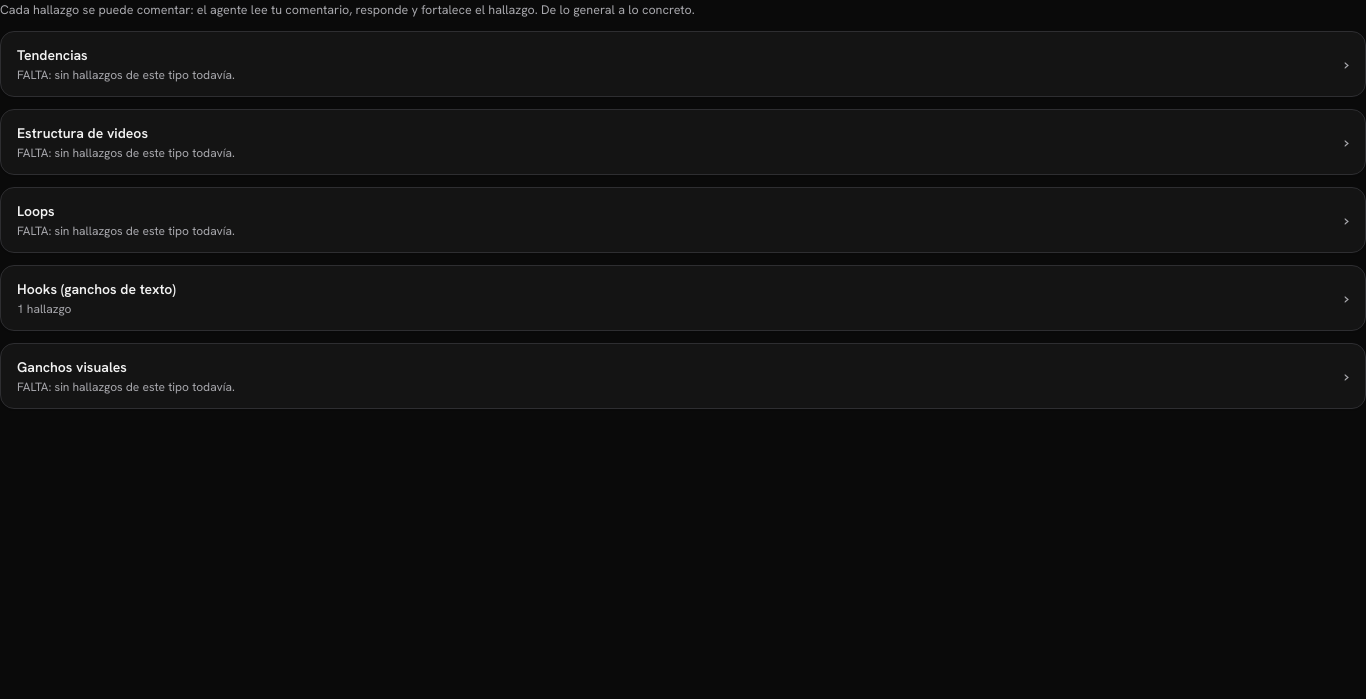
InvestigacionInteractiva › si la relectura tras comentar falla, avisa y no deja la lista vieja como si estuviera al día
This screenshot has width=1366, height=699.
Click the button "Hooks (ganchos de texto) 1 hallazgo ›".
click(96, 289)  # box 1,266 -> 1365,330
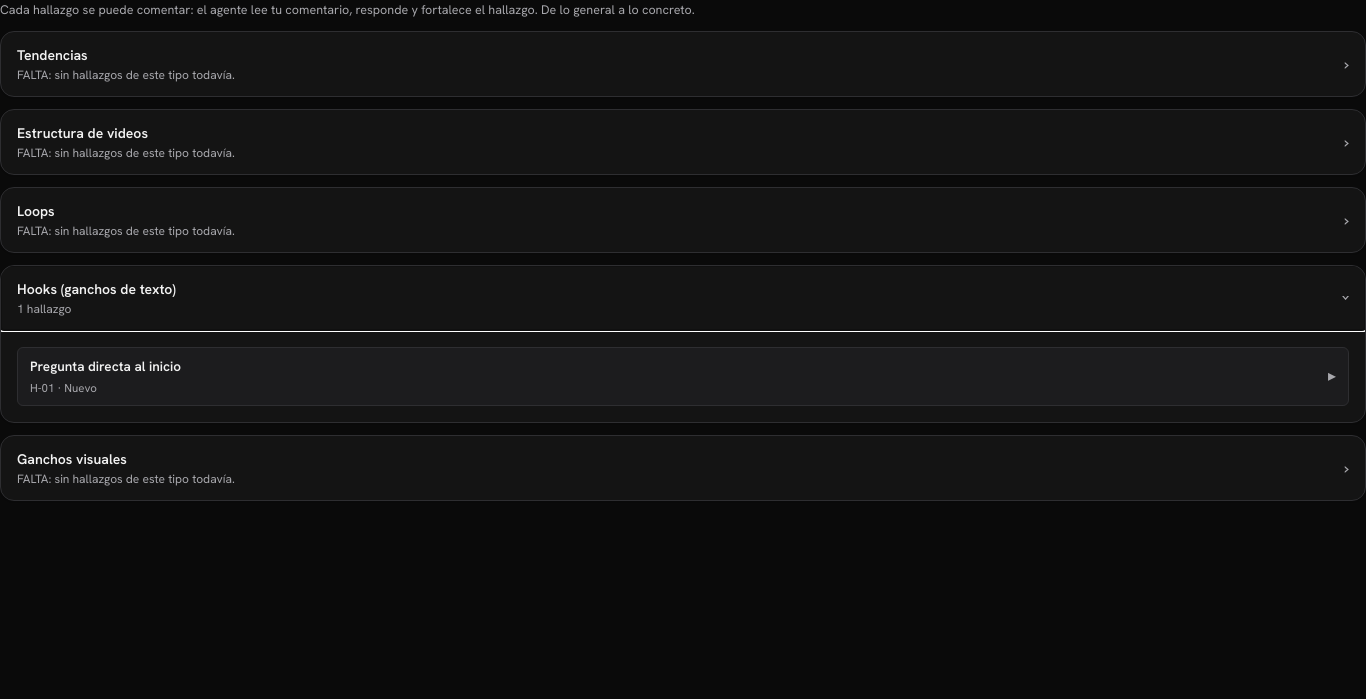
Click the button "Pregunta directa al inicio H-01 · Nuevo ▸".
click(105, 366)  # box 18,348 -> 1348,405
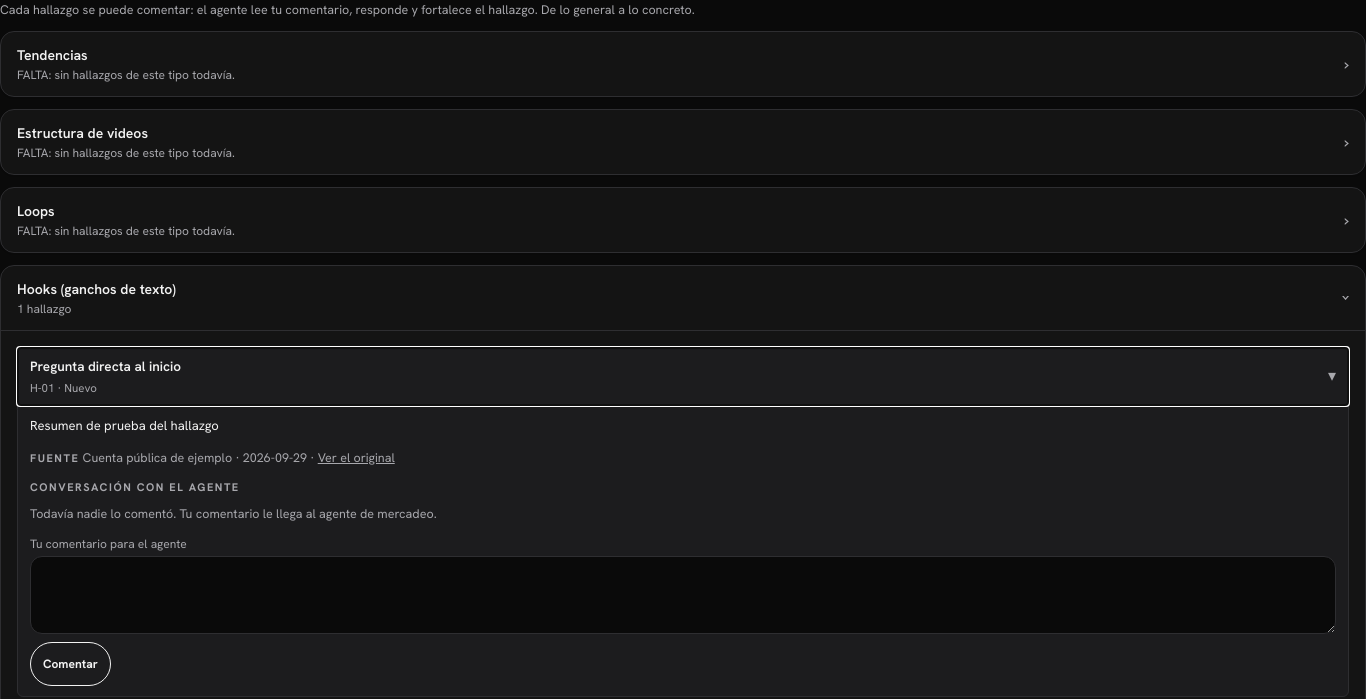
Type "Mi idea" into the text box labelled "Tu comentario para el agente".
click(683, 595); type("Mi idea")  # box 30,556 -> 1336,634
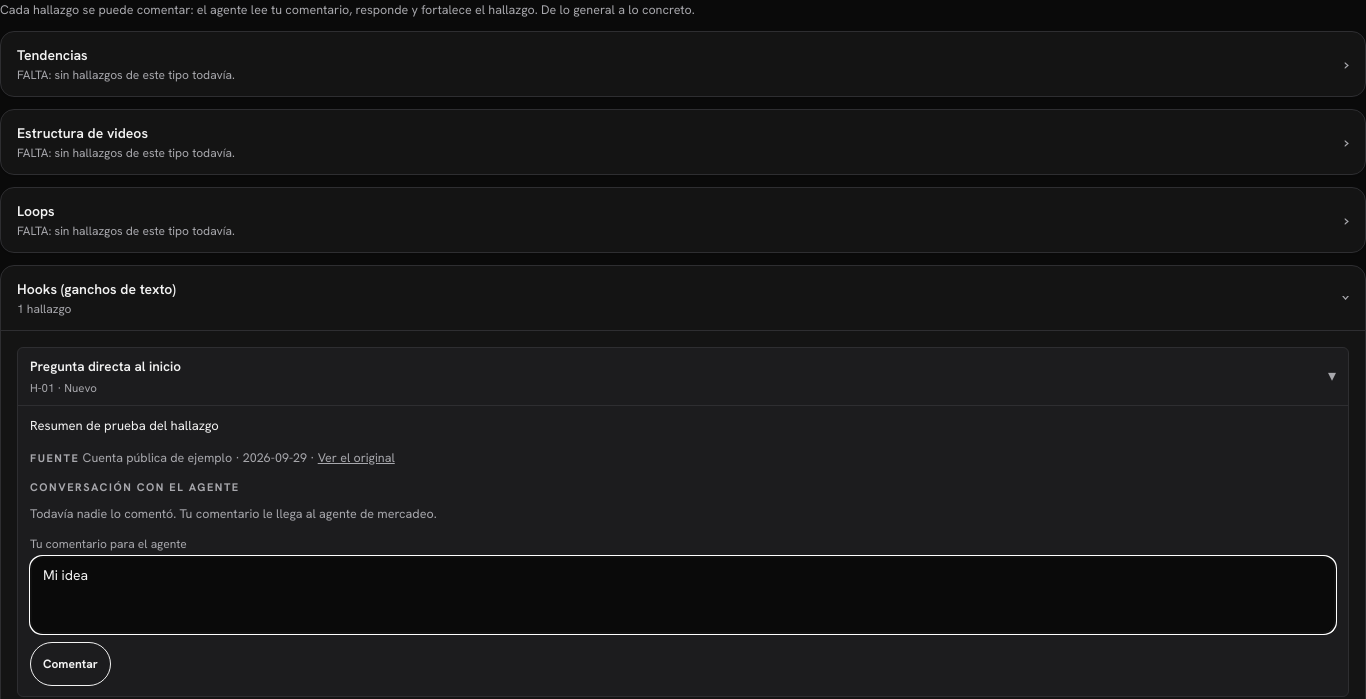
Click the button "Comentar".
click(70, 664)  # box 30,642 -> 111,686
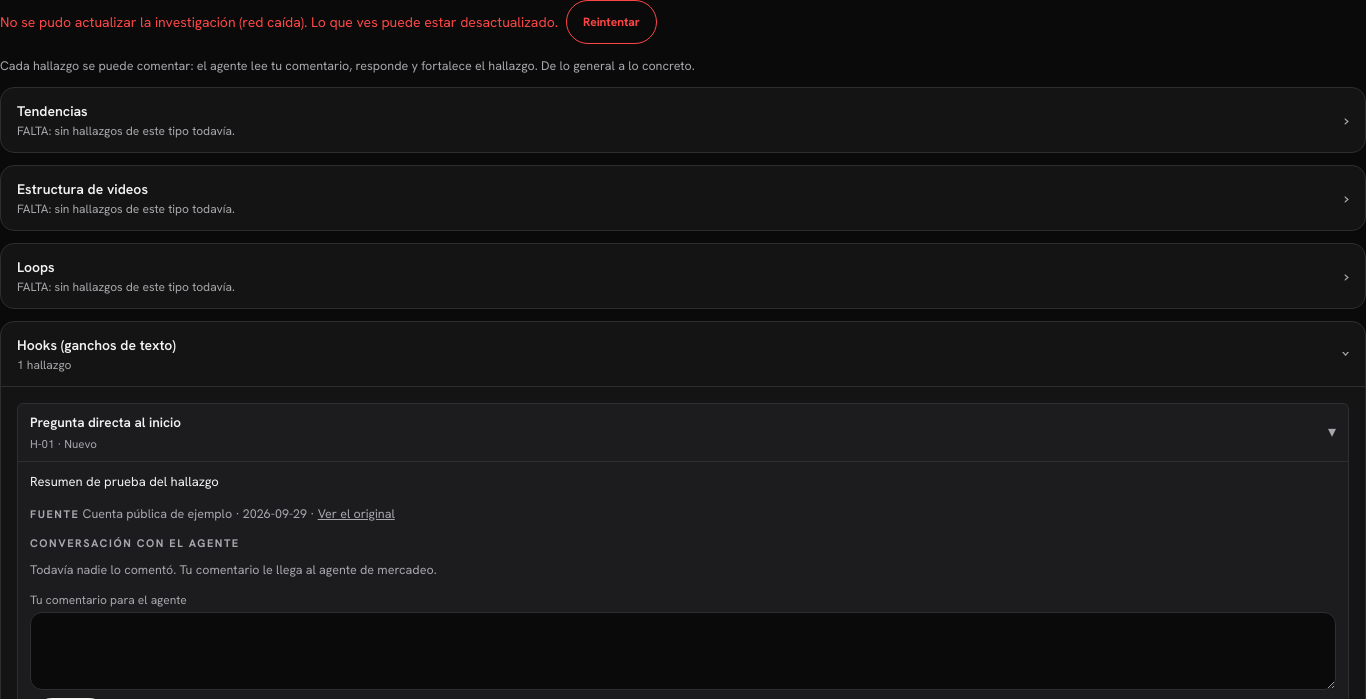
expect the button "Pregunta directa al inicio H-01 · Nuevo ▾" is shown: met, box 18,404 -> 1348,461
expect the text "No se pudo actualizar la investigación (red caída)" is shown: met, box 0,13 -> 558,31
expect the button "Reintentar" is shown: met, box 566,0 -> 657,44
